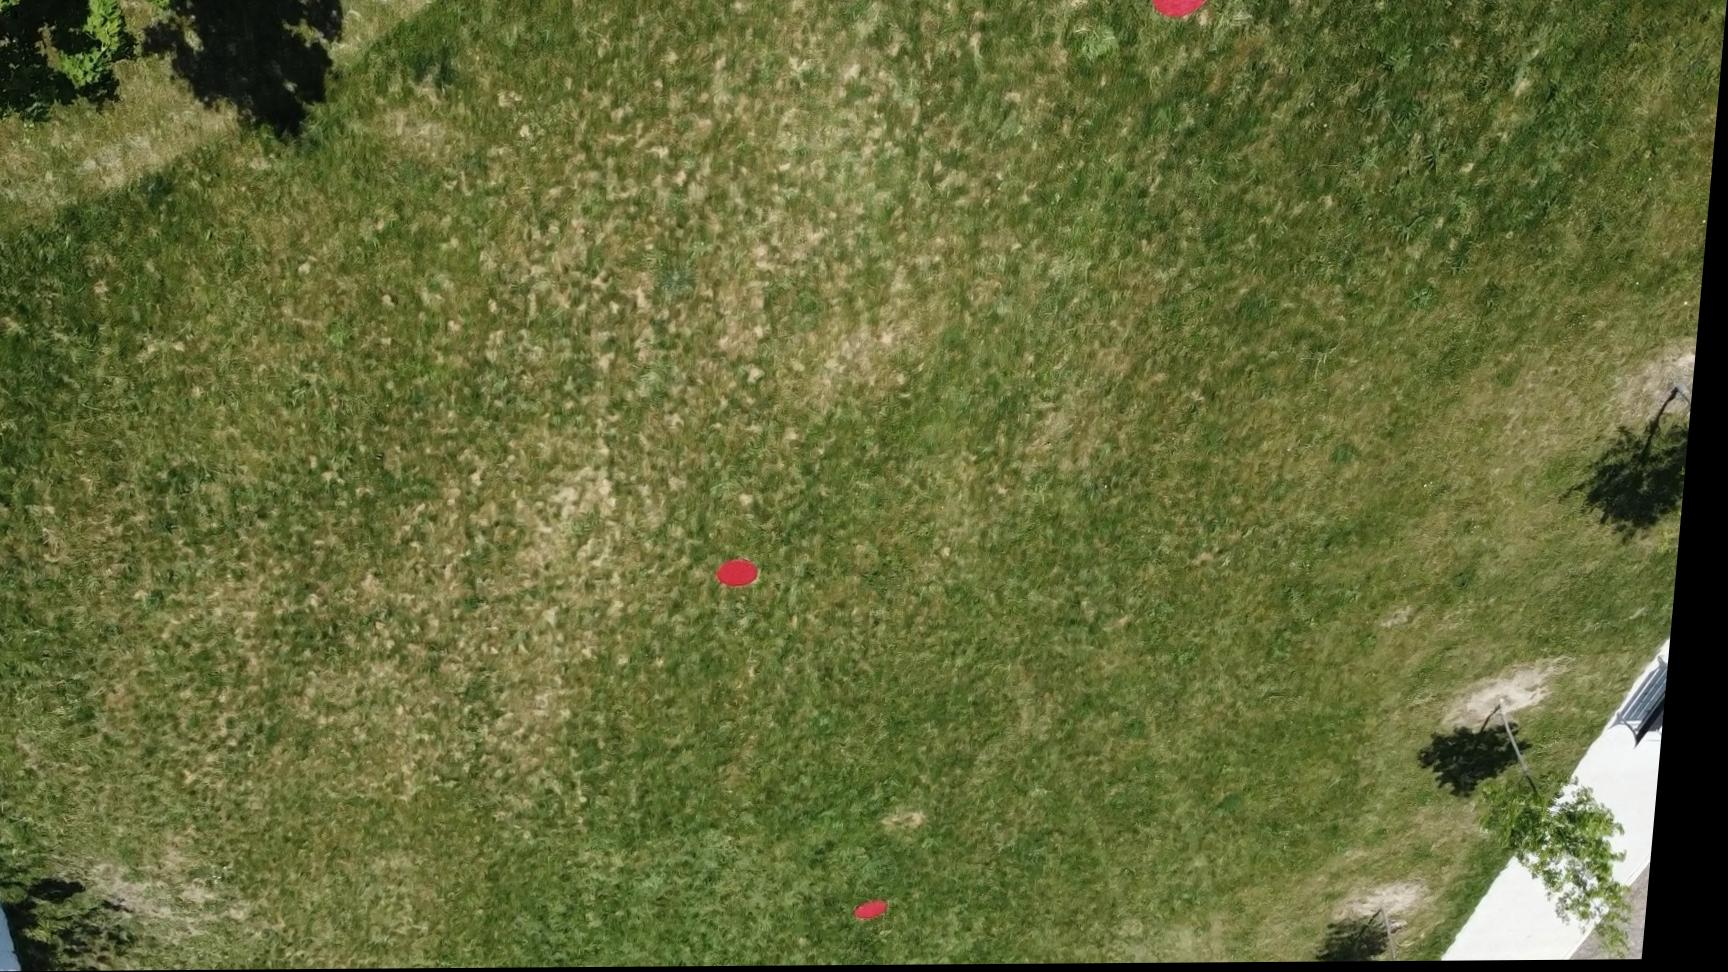Red: (1146, 0, 1218, 23), (724, 557, 770, 591), (869, 900, 909, 922)
